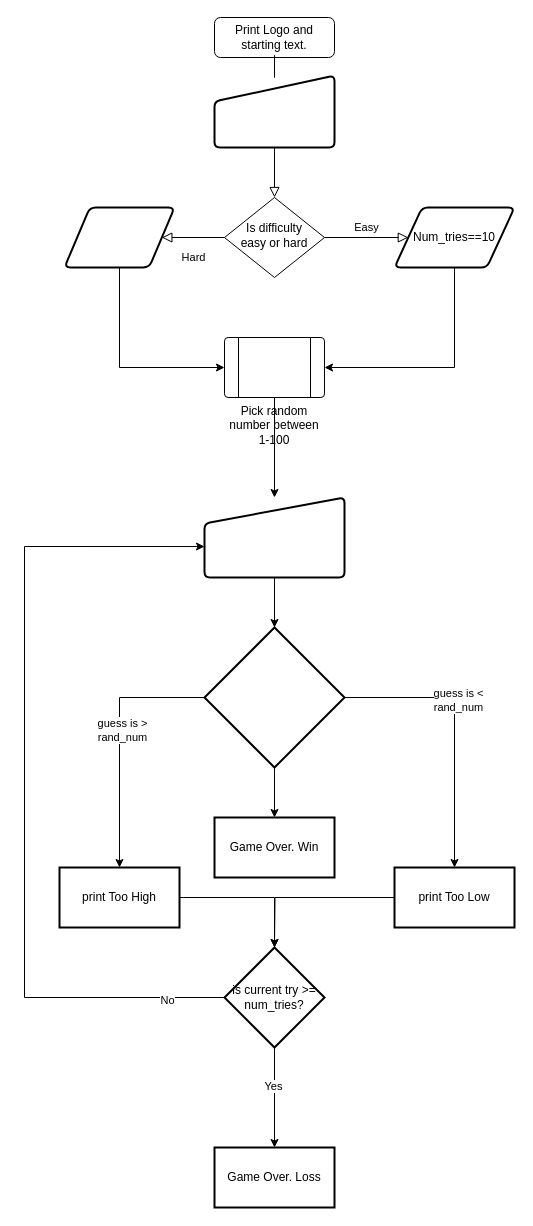
Some shapes in this 533 by 1226 pixel diagram are drawn without their labels. The centre of each missing label's shape, as x and y in pixels:
Ask user to guess the number: point 274,537
compare user_guess to rand_num: point 274,697
Num_tries==5: point 119,237
User Chooses Easy or Hard: point 274,111
